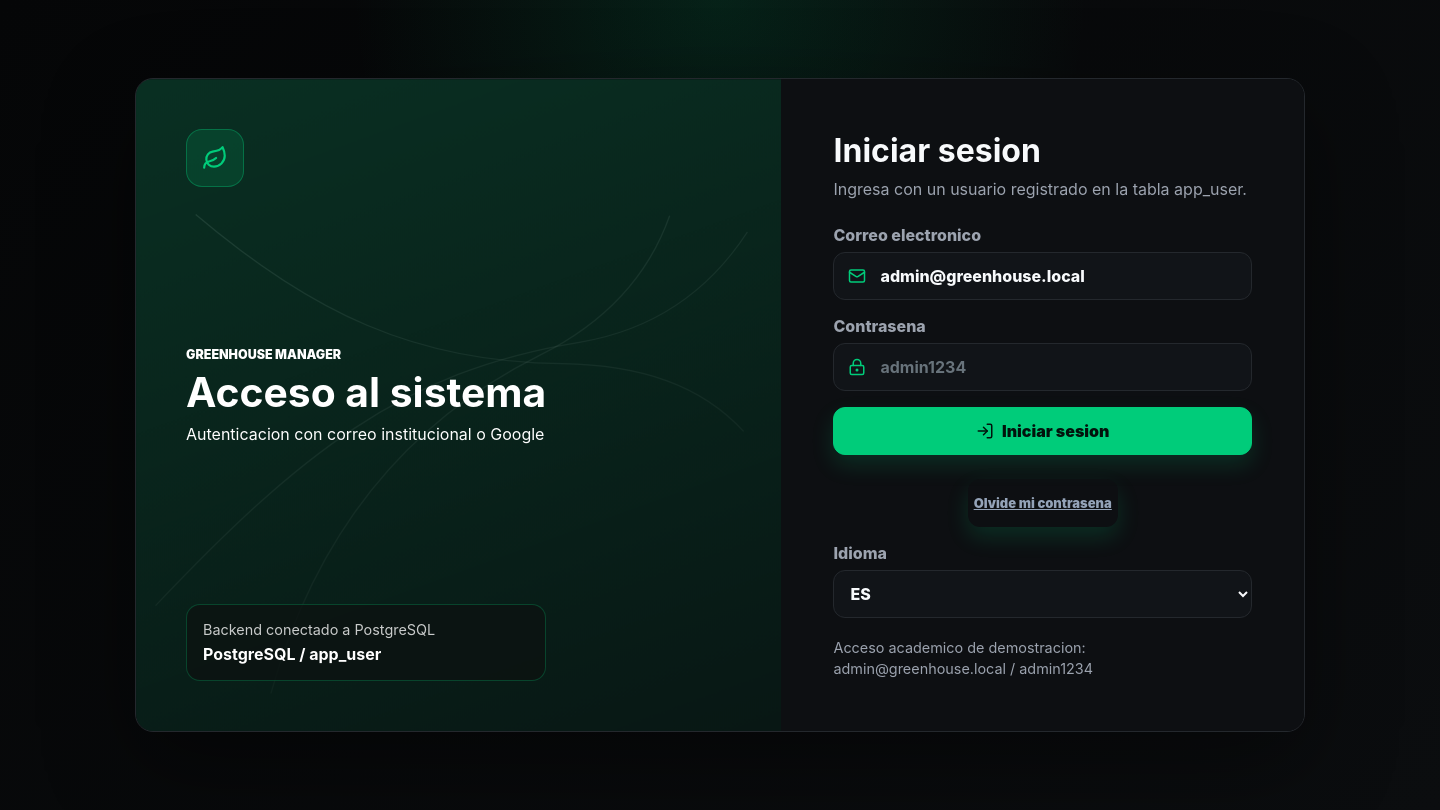
Test: i18n UI integration › renders login in English after language switch
The image size is (1440, 810).
Select "EN" in the dropdown labelled "Idioma" at (1043, 594), box [834, 570, 1252, 618]
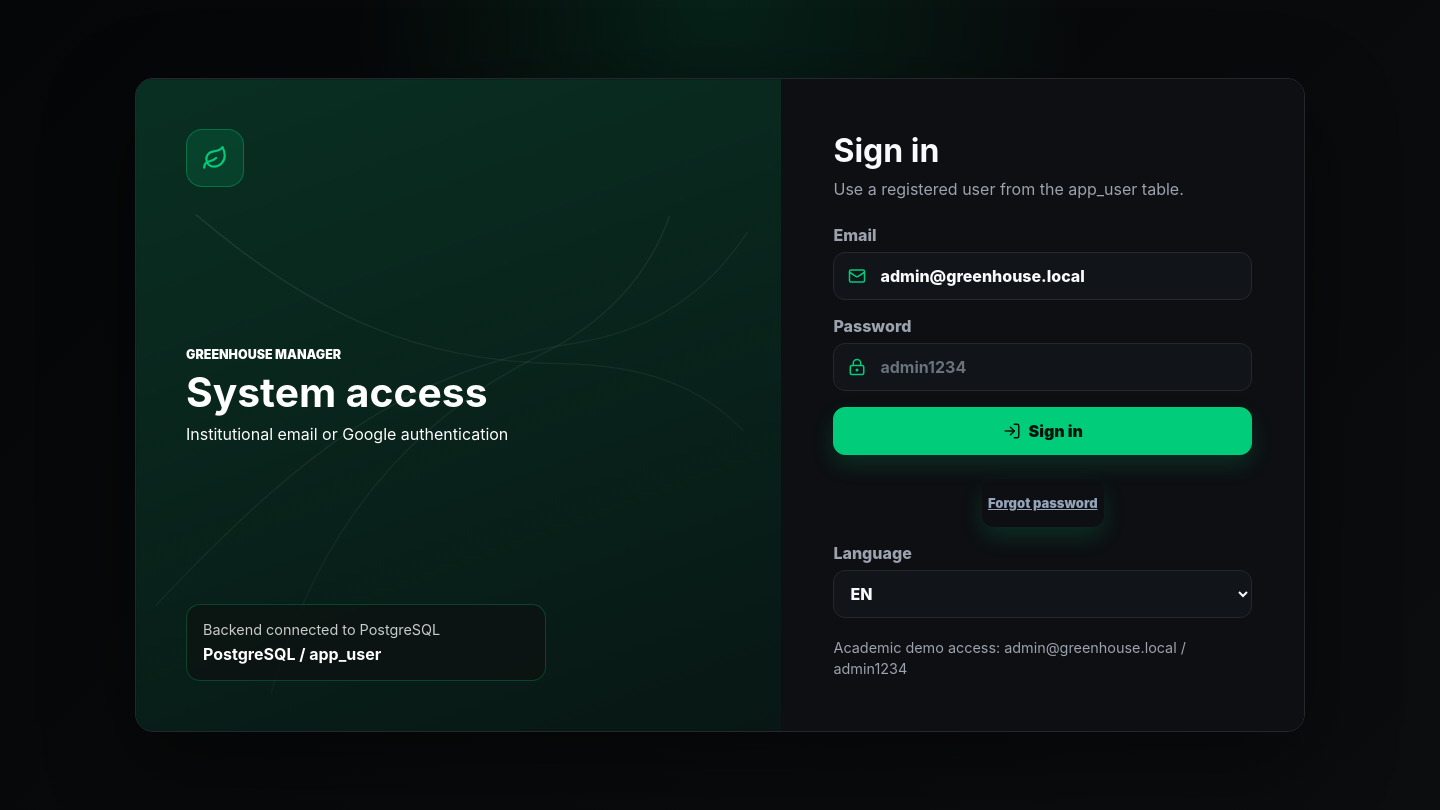
Now the heading "System access" is shown, box [186, 367, 488, 417]
